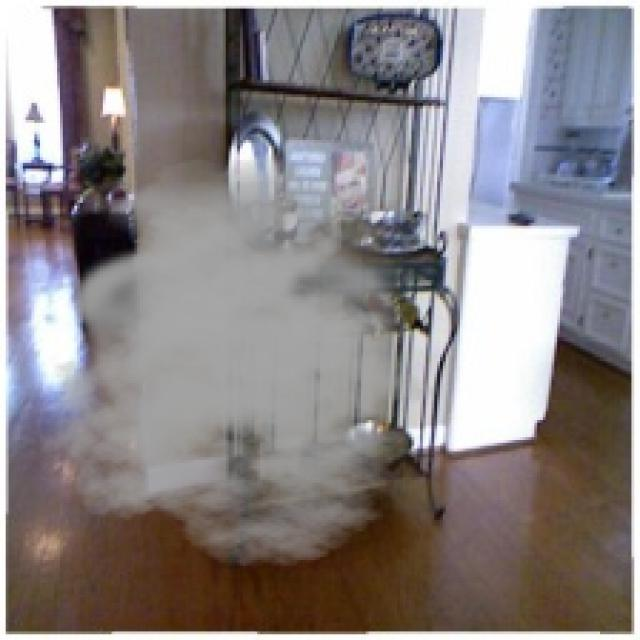smoke: (37, 154, 460, 569)
